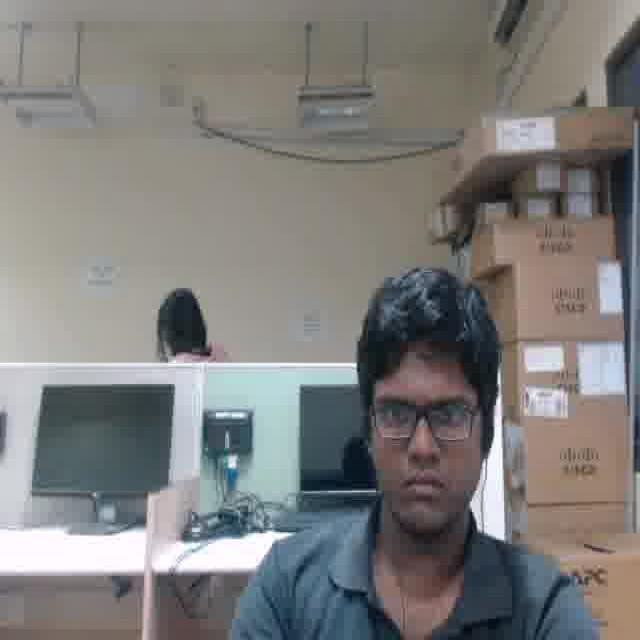Engaged: (371, 349, 478, 523)
